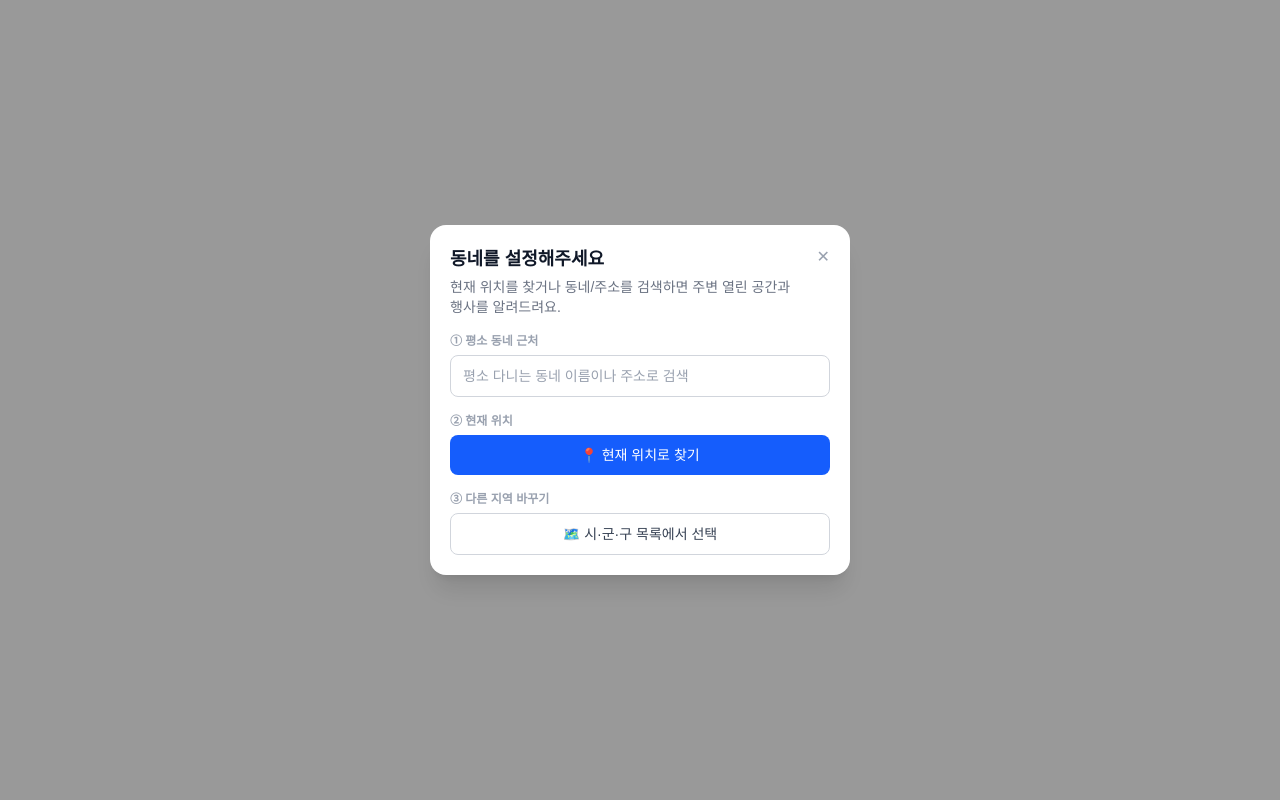
LocationOnboardingModal (Task 9-1-8: GPS 2단계 Fallback) › 검색어와 일치하는 지역이 없으면 안내 문구를 보여준다
This screenshot has width=1280, height=800.
Click the button "📍 현재 위치로 찾기" at point(640, 455), box [450,435,830,475]
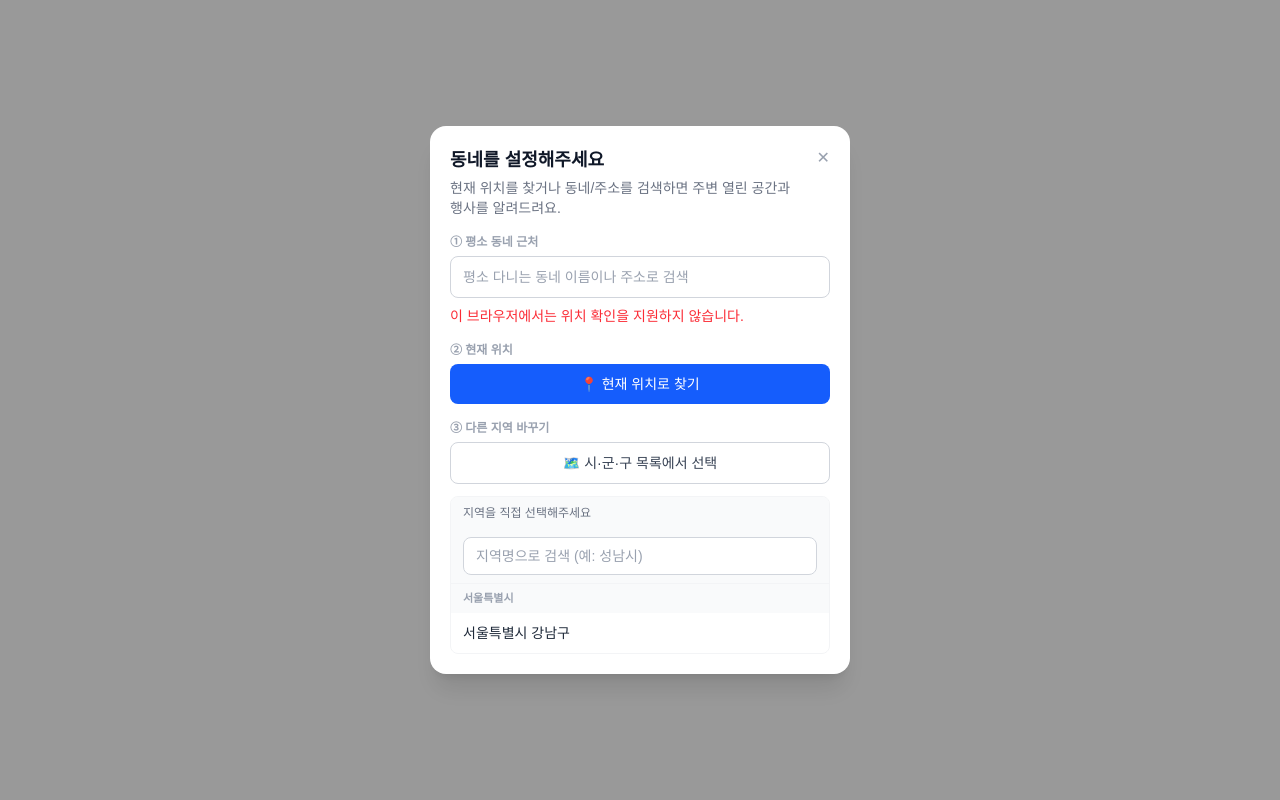
expect the button "서울특별시 강남구" is shown: met, box [451,613,829,653]
Type "존재하지않는지역" into the field named "지역 검색" at point(640, 556), box [463,537,817,575]
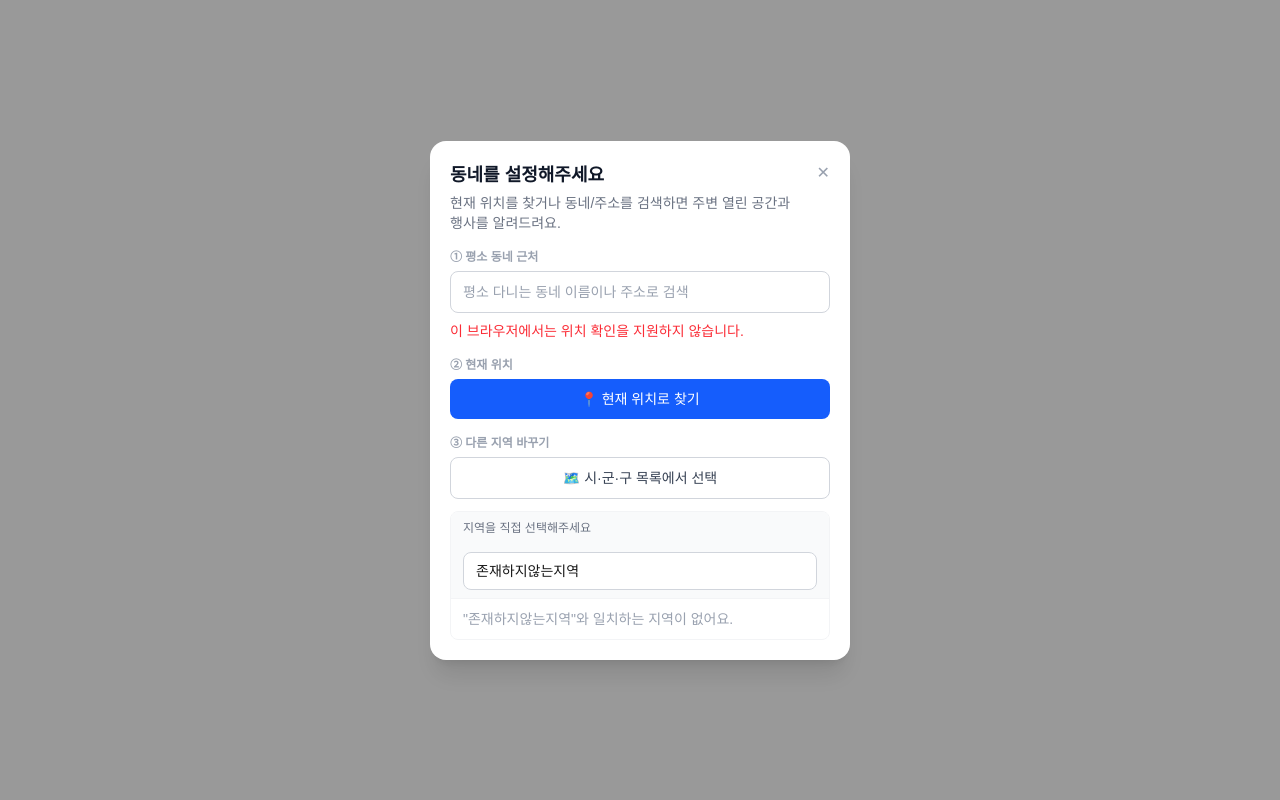
expect the text "\"존재하지않는지역\"와 일치하는 지역이 없어요." is shown: met, box [463,610,733,626]
